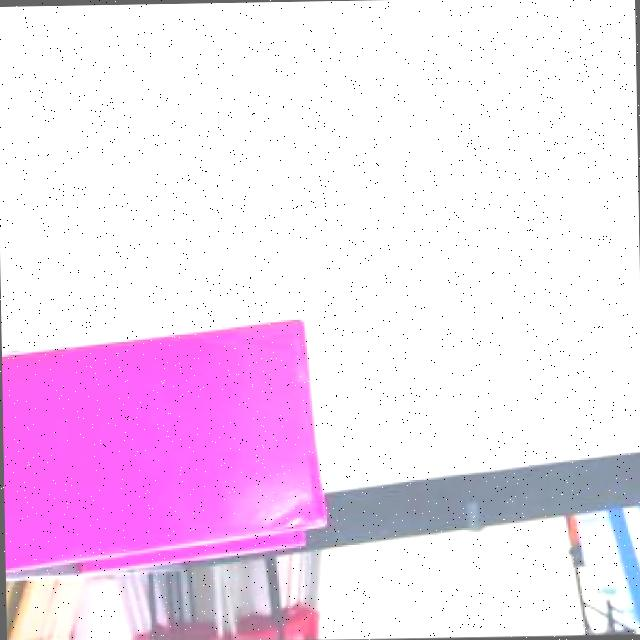xparking: (0, 348, 318, 560)
